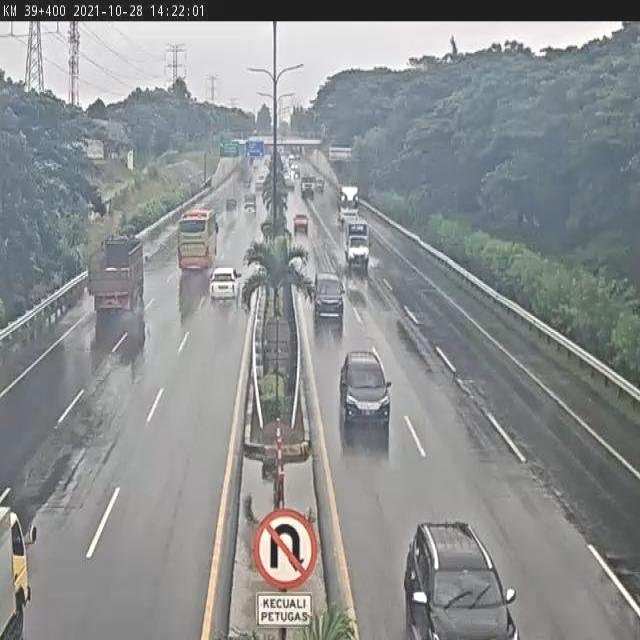Bus: (175, 209, 219, 271)
Car: (401, 518, 520, 640), (337, 348, 392, 430), (311, 271, 347, 319), (210, 268, 243, 300), (293, 213, 310, 233), (225, 196, 237, 210)
Truck: (0, 500, 37, 640), (86, 236, 150, 312), (342, 215, 372, 269), (336, 184, 361, 225), (300, 175, 317, 197), (243, 192, 257, 211)
